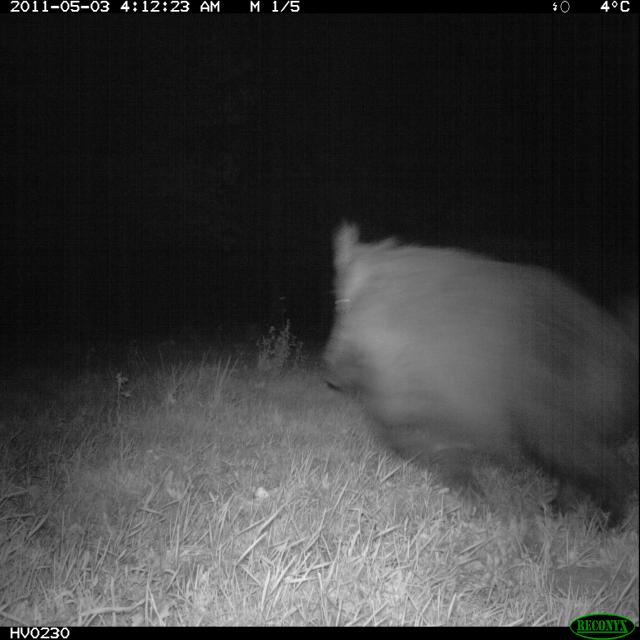boar: (286, 190, 640, 561)
